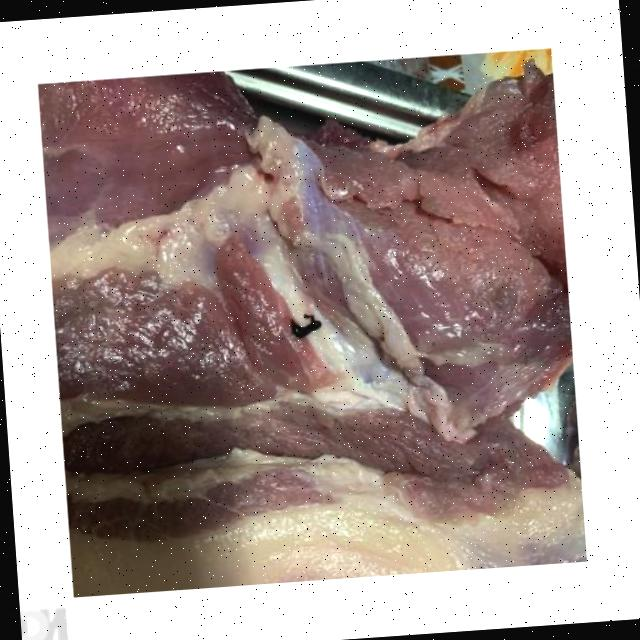rotten meat: (25, 18, 608, 612)
